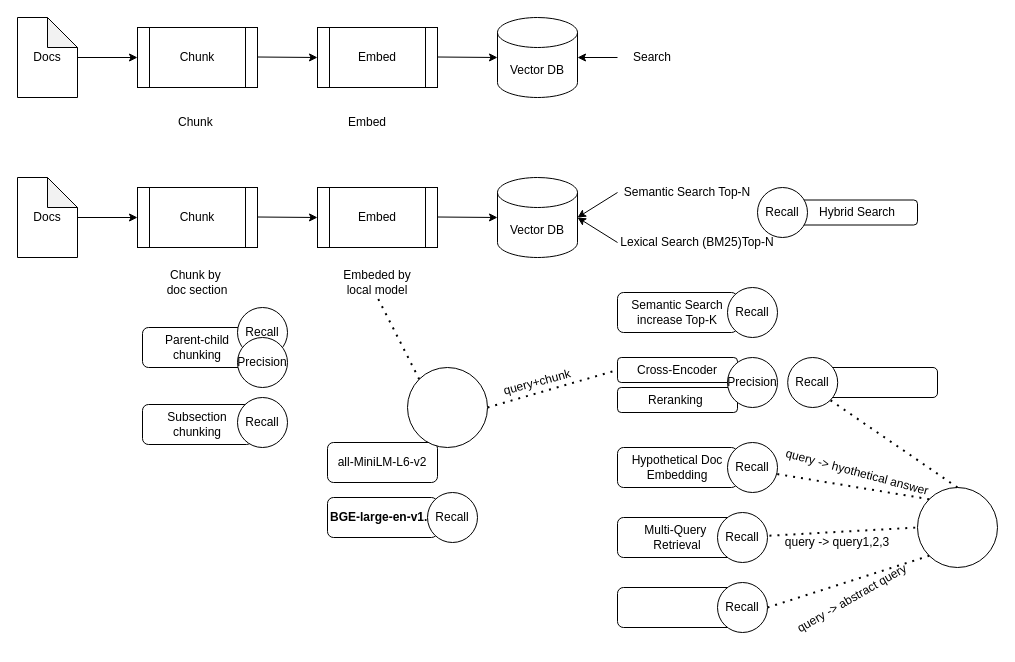
Image size: 1015x662. Some labels were removed from this diagram. Each missing label, with the box of its shape:
LLM: (916, 486, 998, 568)
LLM Reranking: (826, 366, 938, 398)
Local Model: (406, 366, 488, 448)
Step-back Retrieval: (616, 586, 738, 628)
